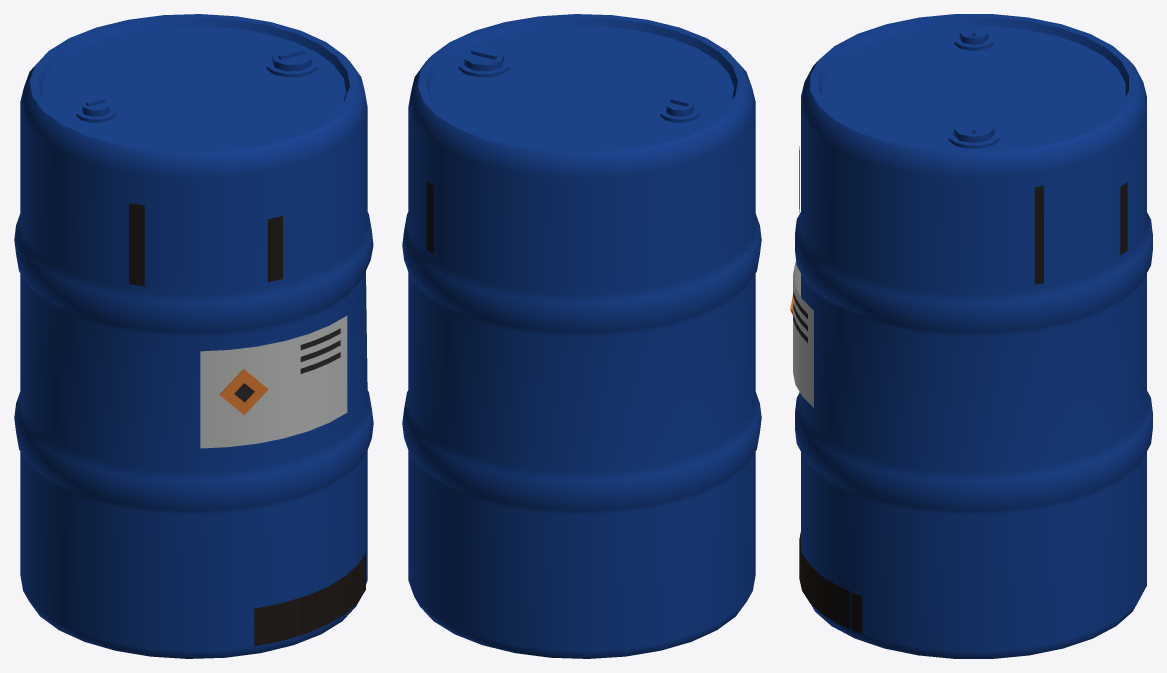
File: Barrel_Plastic_Blue.fbx
3 views of the same model, side by side, from view 1: azimuth 30°, elevation 25°; view 2: azimuth 150°, elevation 25°; view 3: azimuth 270°, elevation 25° (orthographic).
Visible parts, largest first — view 1: Barrel_Plastic_Blue_LOD0; view 2: Barrel_Plastic_Blue_LOD0; view 3: Barrel_Plastic_Blue_LOD0.
Boxes of the visible parts, left/top/right/bottom form: Barrel_Plastic_Blue_LOD0: left=14, top=14, right=373, bottom=658; Barrel_Plastic_Blue_LOD0: left=402, top=14, right=761, bottom=658; Barrel_Plastic_Blue_LOD0: left=790, top=14, right=1152, bottom=658.
Size of what is drawn, in the model's own units: 0.6002 by 0.947 by 0.6082.
